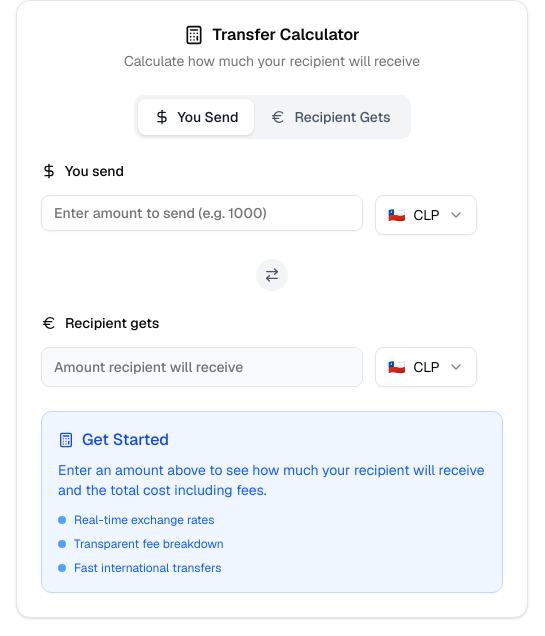
Scenario: TransferCalculator › Calculator Mode Switcher › switches to "Recipient Gets" mode when clicked
Click the button "Recipient Gets" at (330, 117), box [254, 99, 406, 135]
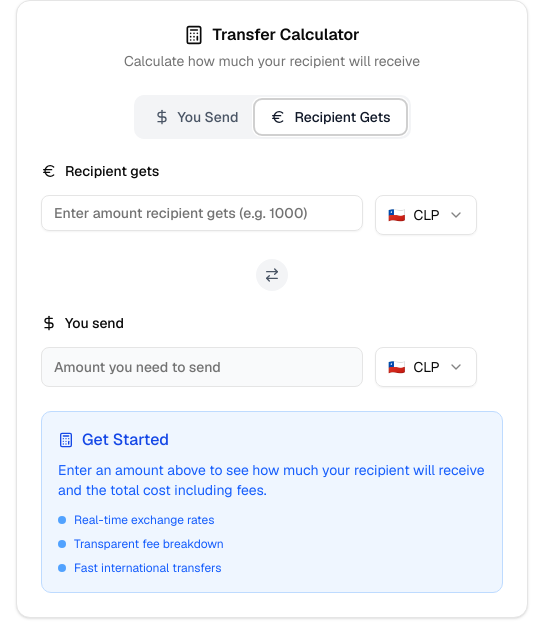
Check: the text "Recipient gets" is shown, box [41, 163, 159, 179]
Check: the text "You send" is shown, box [41, 315, 124, 331]
